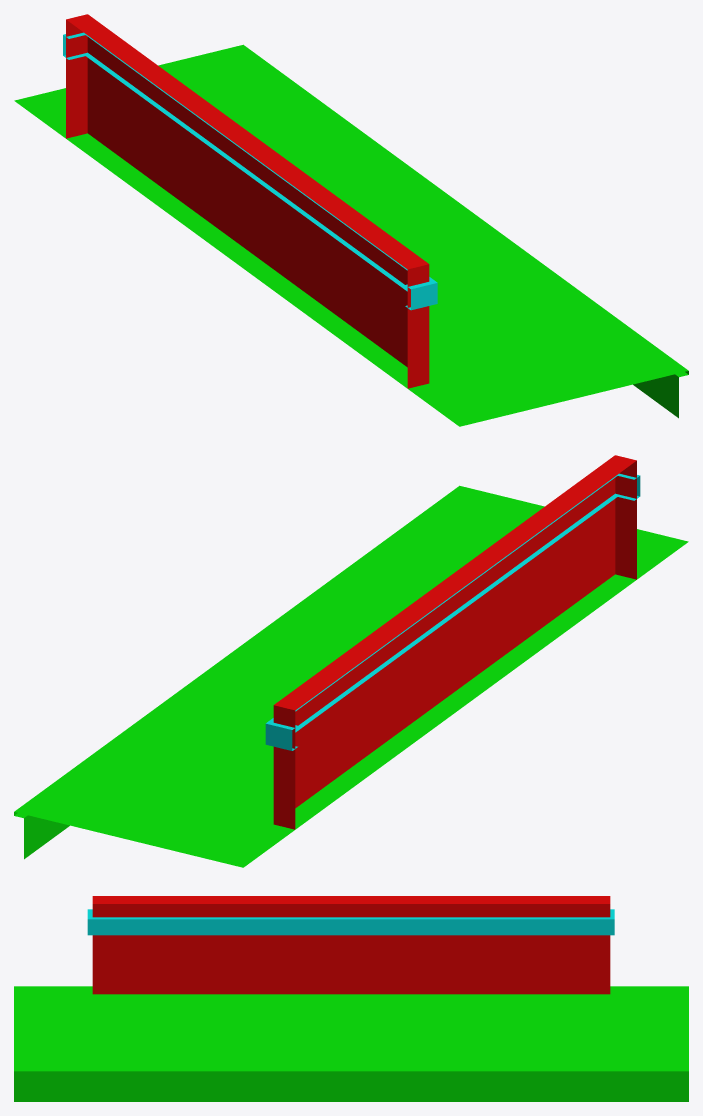
The model's file is Station_Middle.fbx.
3 views of the same model, one above another, from view 1: azimuth 30°, elevation 25°; view 2: azimuth 150°, elevation 25°; view 3: azimuth 270°, elevation 25° (orthographic). The views are drawn at different scales.
Parts seen in each view (by area): view 1: Medio2; view 2: Medio2; view 3: Medio2.
Boxes of the visible parts, x1,y1,x2,y2 form: Medio2: (14,14,688,426); Medio2: (14,455,688,867); Medio2: (14,896,688,1101).
Bounding box in the file's own units: 57.87 × 39.69 × 195.
